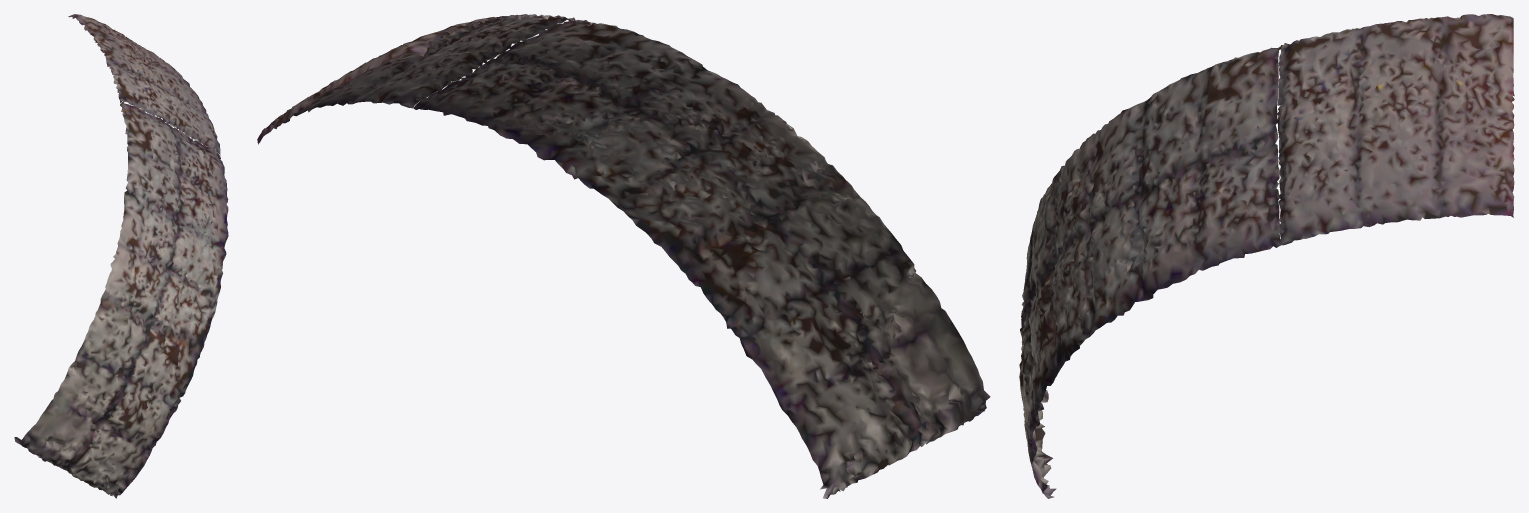
Rendered from dome-shutters.glb.
The picture shows the model from 3 angles, left to right: view 1: azimuth 30°, elevation 25°; view 2: azimuth 150°, elevation 25°; view 3: azimuth 270°, elevation 25°; orthographic projection. The views are drawn at different scales.
Visible parts, largest first — view 1: upper_shutter, lower_shutter; view 2: upper_shutter, lower_shutter; view 3: upper_shutter, lower_shutter.
Part boxes in pixels (box(x1,y1,x2,y2)): upper_shutter: box(14, 102, 228, 498); lower_shutter: box(68, 14, 220, 155); upper_shutter: box(413, 20, 990, 498); lower_shutter: box(257, 14, 575, 144); upper_shutter: box(1019, 46, 1280, 498); lower_shutter: box(1277, 14, 1514, 245).
Bounding box in the file's own units: 3.89 × 4.41 × 3.53.
